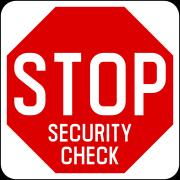Stop: (11, 17, 174, 173)
